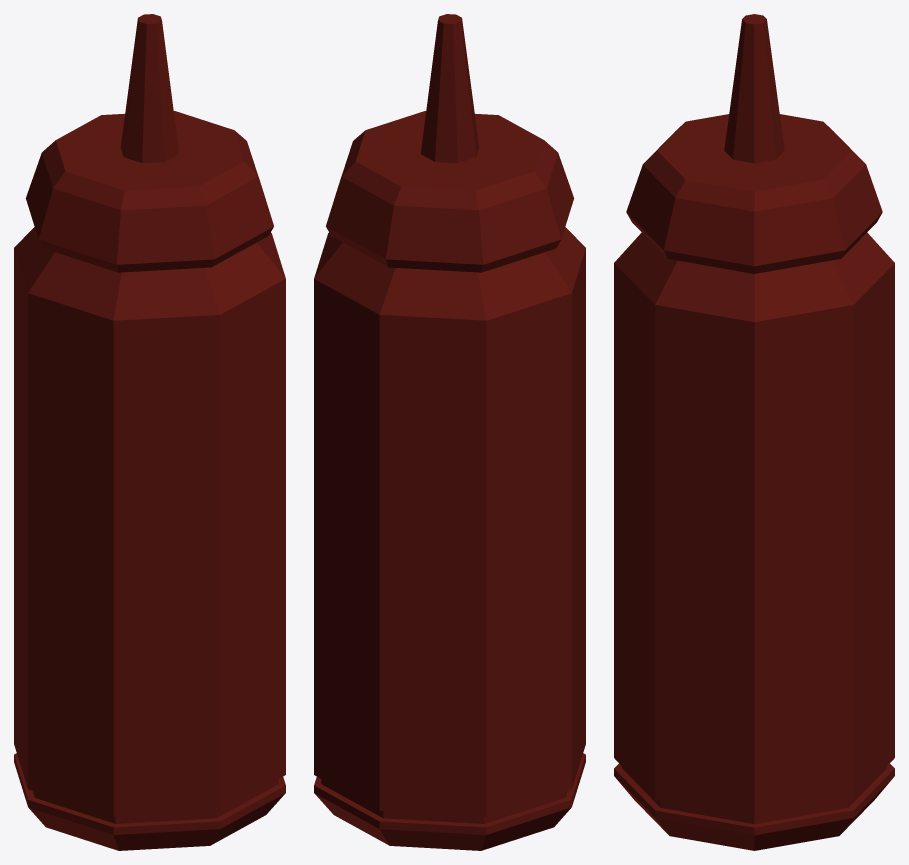
Rendered from KetchupBottle.obj.
3 views of the same model, side by side, from view 1: azimuth 30°, elevation 25°; view 2: azimuth 150°, elevation 25°; view 3: azimuth 270°, elevation 25° (orthographic).
Parts seen in each view (by area): view 1: KetchupBottle_Cylinder.013; view 2: KetchupBottle_Cylinder.013; view 3: KetchupBottle_Cylinder.013.
Part boxes in pixels (<box>): KetchupBottle_Cylinder.013: <box>14,14,285,850</box>; KetchupBottle_Cylinder.013: <box>314,14,585,850</box>; KetchupBottle_Cylinder.013: <box>614,14,894,850</box>.
Size of the model in its own units: 0.4996 by 1.53 by 0.4996.
